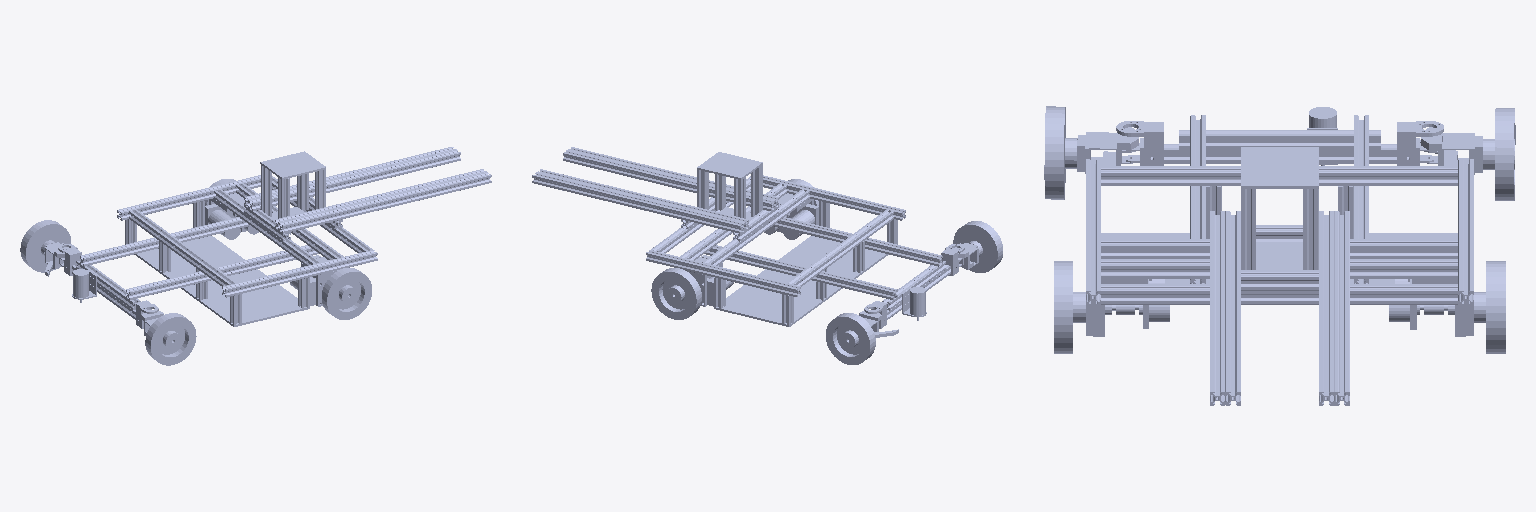
URDF robot description (AAAckermann_for sim):
<?xml version="1.0" encoding="utf-8"?>
<!-- This URDF was automatically created by SolidWorks to URDF Exporter! Originally created by [author] ([email redacted]) 
     Commit Version: 1.6.0-4-g7f85cfe  Build Version: 1.6.7995.38578
     For more information, please see http://wiki.ros.org/sw_urdf_exporter -->
<robot
  name="AAAckermann_for sim">
  <link
    name="base_link">
    <inertial>
      <origin
        xyz="0.378273956824531 0.207368508650551 0.267336278539194"
        rpy="0 0 0" />
      <mass
        value="5.27646497943025" />
      <inertia
        ixx="0.0446747163082627"
        ixy="-1.52872319055898E-08"
        ixz="-8.31952501961673E-09"
        iyy="0.0732375170085209"
        iyz="1.2162951389861E-07"
        izz="0.0303582217165426" />
    </inertial>
    <visual>
      <origin
        xyz="0 0 0"
        rpy="0 0 0" />
      <geometry>
        <mesh
          filename="package://AAAckermann_for sim/meshes/base_link.STL" />
      </geometry>
      <material
        name="">
        <color
          rgba="0.792156862745098 0.819607843137255 0.933333333333333 1" />
      </material>
    </visual>
    <collision>
      <origin
        xyz="0 0 0"
        rpy="0 0 0" />
      <geometry>
        <mesh
          filename="package://AAAckermann_for sim/meshes/base_link.STL" />
      </geometry>
    </collision>
  </link>
  <link
    name="front_left">
    <inertial>
      <origin
        xyz="2.7756E-17 0.025726 0"
        rpy="0 0 0" />
      <mass
        value="0.24047" />
      <inertia
        ixx="0.00024514"
        ixy="1.8023E-20"
        ixz="0"
        iyy="0.00045262"
        iyz="4.4133E-20"
        izz="0.00024514" />
    </inertial>
    <visual>
      <origin
        xyz="0 0 0"
        rpy="0 0 0" />
      <geometry>
        <mesh
          filename="package://AAAckermann_for sim/meshes/front_left.STL" />
      </geometry>
      <material
        name="">
        <color
          rgba="0.79216 0.81961 0.93333 1" />
      </material>
    </visual>
    <collision>
      <origin
        xyz="0 0 0"
        rpy="0 0 0" />
      <geometry>
        <mesh
          filename="package://AAAckermann_for sim/meshes/front_left.STL" />
      </geometry>
    </collision>
  </link>
  <joint
    name="front_left_joint"
    type="continuous">
    <origin
      xyz="0.000500000000046352 0.249850000000001 -0.0745000000001352"
      rpy="3.14159265358979 0.391796412189509 3.14159265358979" />
    <parent
      link="base_link" />
    <child
      link="front_left" />
    <axis
      xyz="0 1 0" />
  </joint>
  <link
    name="front_right">
    <inertial>
      <origin
        xyz="-1.52655665885959E-16 0.0257257525083612 2.77555756156289E-17"
        rpy="0 0 0" />
      <mass
        value="0.240470068076377" />
      <inertia
        ixx="0.000245137261047143"
        ixy="-1.9265269650864E-20"
        ixz="0"
        iyy="0.000452624182450972"
        iyz="-4.3727623063712E-20"
        izz="0.000245137261047143" />
    </inertial>
    <visual>
      <origin
        xyz="0 0 0"
        rpy="0 0 0" />
      <geometry>
        <mesh
          filename="package://AAAckermann_for sim/meshes/front_right.STL" />
      </geometry>
      <material
        name="">
        <color
          rgba="0.792156862745098 0.819607843137255 0.933333333333333 1" />
      </material>
    </visual>
    <collision>
      <origin
        xyz="0 0 0"
        rpy="0 0 0" />
      <geometry>
        <mesh
          filename="package://AAAckermann_for sim/meshes/front_right.STL" />
      </geometry>
    </collision>
  </link>
  <joint
    name="front_right_joint"
    type="continuous">
    <origin
      xyz="0.000499999999999973 -0.250150000000045 -0.0745000000001819"
      rpy="0 0.467678189791487 3.14159265358979" />
    <parent
      link="base_link" />
    <child
      link="front_right" />
    <axis
      xyz="0 1 0" />
  </joint>
  <link
    name="streeing_left">
    <inertial>
      <origin
        xyz="0.0295849565835315 0.0305517507053702 0.00025133465892857"
        rpy="0 0 0" />
      <mass
        value="0.0657716016430145" />
      <inertia
        ixx="3.3342629769735E-05"
        ixy="-6.70427737231874E-07"
        ixz="-1.64742779350747E-08"
        iyy="3.29488469439198E-05"
        iyz="-7.80535173256215E-09"
        izz="1.43678477927653E-05" />
    </inertial>
    <visual>
      <origin
        xyz="0 0 0"
        rpy="0 0 0" />
      <geometry>
        <mesh
          filename="package://AAAckermann_for sim/meshes/streeing_left.STL" />
      </geometry>
      <material
        name="">
        <color
          rgba="0.792156862745098 0.819607843137255 0.933333333333333 1" />
      </material>
    </visual>
    <collision>
      <origin
        xyz="0 0 0"
        rpy="0 0 0" />
      <geometry>
        <mesh
          filename="package://AAAckermann_for sim/meshes/streeing_left.STL" />
      </geometry>
    </collision>
  </link>
  <joint
    name="streeing_left_joint"
    type="continuous">
    <origin
      xyz="-0.468499999999953 0.19234999999993 -0.0435000000003572"
      rpy="-1.5707963267949 0 1.55489967824877" />
    <parent
      link="base_link" />
    <child
      link="streeing_left" />
    <axis
      xyz="0 1 0" />
  </joint>
  <link
    name="back_left">
    <inertial>
      <origin
        xyz="-4.44089209850063E-16 0.0283132600998284 -5.55111512312578E-17"
        rpy="0 0 0" />
      <mass
        value="0.240470068076377" />
      <inertia
        ixx="0.000245137261047143"
        ixy="-9.23054154270374E-19"
        ixz="-1.35525271560688E-20"
        iyy="0.000452624182450971"
        iyz="6.41098061953099E-19"
        izz="0.000245137261047143" />
    </inertial>
    <visual>
      <origin
        xyz="0 0 0"
        rpy="0 0 0" />
      <geometry>
        <mesh
          filename="package://AAAckermann_for sim/meshes/back_left.STL" />
      </geometry>
      <material
        name="">
        <color
          rgba="0.792156862745098 0.819607843137255 0.933333333333333 1" />
      </material>
    </visual>
    <collision>
      <origin
        xyz="0 0 0"
        rpy="0 0 0" />
      <geometry>
        <mesh
          filename="package://AAAckermann_for sim/meshes/back_left.STL" />
      </geometry>
    </collision>
  </link>
  <joint
    name="back_left_joint"
    type="continuous">
    <origin
      xyz="0.0664124924085357 0.0314999999999999 0"
      rpy="0 1.07169307776457 -1.57079632679492" />
    <parent
      link="streeing_left" />
    <child
      link="back_left" />
    <axis
      xyz="0 1 0" />
  </joint>
  <link
    name="streeing_right">
    <inertial>
      <origin
        xyz="0.0310436860976285 0.0295964978436791 0.00306609070713337"
        rpy="0 0 0" />
      <mass
        value="0.0614331768620609" />
      <inertia
        ixx="2.30324396146209E-05"
        ixy="-6.66872189933639E-07"
        ixz="2.4598292442122E-06"
        iyy="2.16156437412178E-05"
        iyz="3.18637791901642E-10"
        izz="1.32958532185453E-05" />
    </inertial>
    <visual>
      <origin
        xyz="0 0 0"
        rpy="0 0 0" />
      <geometry>
        <mesh
          filename="package://AAAckermann_for sim/meshes/streeing_right.STL" />
      </geometry>
      <material
        name="">
        <color
          rgba="0.792156862745098 0.819607843137255 0.933333333333333 1" />
      </material>
    </visual>
    <collision>
      <origin
        xyz="0 0 0"
        rpy="0 0 0" />
      <geometry>
        <mesh
          filename="package://AAAckermann_for sim/meshes/streeing_right.STL" />
      </geometry>
    </collision>
  </link>
  <joint
    name="streeing_right_joint"
    type="continuous">
    <origin
      xyz="-0.468499999999954 -0.191650000000066 -0.0435000000003106"
      rpy="-1.5707963267949 0 -1.59505698581713" />
    <parent
      link="base_link" />
    <child
      link="streeing_right" />
    <axis
      xyz="0 1 0" />
  </joint>
  <link
    name="back_right">
    <inertial>
      <origin
        xyz="-1.11022302462516E-16 0.0295015905148818 -5.55111512312578E-16"
        rpy="0 0 0" />
      <mass
        value="0.240470068076377" />
      <inertia
        ixx="0.000245137261047142"
        ixy="-3.62953617898468E-19"
        ixz="-6.7762635780344E-21"
        iyy="0.000452624182450971"
        iyz="-9.82558218814988E-20"
        izz="0.000245137261047142" />
    </inertial>
    <visual>
      <origin
        xyz="0 0 0"
        rpy="0 0 0" />
      <geometry>
        <mesh
          filename="package://AAAckermann_for sim/meshes/back_right.STL" />
      </geometry>
      <material
        name="">
        <color
          rgba="0.792156862745098 0.819607843137255 0.933333333333333 1" />
      </material>
    </visual>
    <collision>
      <origin
        xyz="0 0 0"
        rpy="0 0 0" />
      <geometry>
        <mesh
          filename="package://AAAckermann_for sim/meshes/back_right.STL" />
      </geometry>
    </collision>
  </link>
  <joint
    name="back_right_joint"
    type="continuous">
    <origin
      xyz="0.0652241619934794 0.0315 0"
      rpy="3.14159265358979 1.19455810050953 1.5707963267949" />
    <parent
      link="streeing_right" />
    <child
      link="back_right" />
    <axis
      xyz="0 1 0" />
  </joint>
</robot>

--- Facts derived from the render (not from the file) ---
The picture shows the robot from 3 angles, left to right: view 1: azimuth 30°, elevation 25°; view 2: azimuth 150°, elevation 25°; view 3: azimuth 270°, elevation 25°; orthographic projection.
Model AAAckermann_for sim with 7 links and 6 joints (6 continuous), rooted at base_link, posed every joint at zero.
Visible links, largest first — view 1: base_link, back_right, front_right, back_left; view 2: base_link, front_left, back_left, back_right; view 3: base_link, back_right, back_left, front_left, front_right, streeing_left, streeing_right.
Link boxes in pixels (<box>): base_link: <box>58,147,491,328</box>; back_right: <box>145,313,196,365</box>; front_right: <box>322,268,371,319</box>; back_left: <box>20,220,70,272</box>; base_link: <box>532,147,964,328</box>; front_left: <box>651,268,701,319</box>; back_left: <box>826,313,875,364</box>; back_right: <box>953,221,1002,272</box>; base_link: <box>1086,107,1473,405</box>; back_right: <box>1044,106,1077,199</box>; back_left: <box>1483,108,1515,200</box>; front_left: <box>1474,261,1505,353</box>; front_right: <box>1054,261,1085,353</box>; streeing_left: <box>1420,127,1482,174</box>; streeing_right: <box>1077,127,1138,173</box>.
Bounding box of the posed robot: 1.02 × 0.6064 × 0.27 m (x, y, z).
7 mesh visuals loaded from 7 distinct referenced files (7 binary STL).
